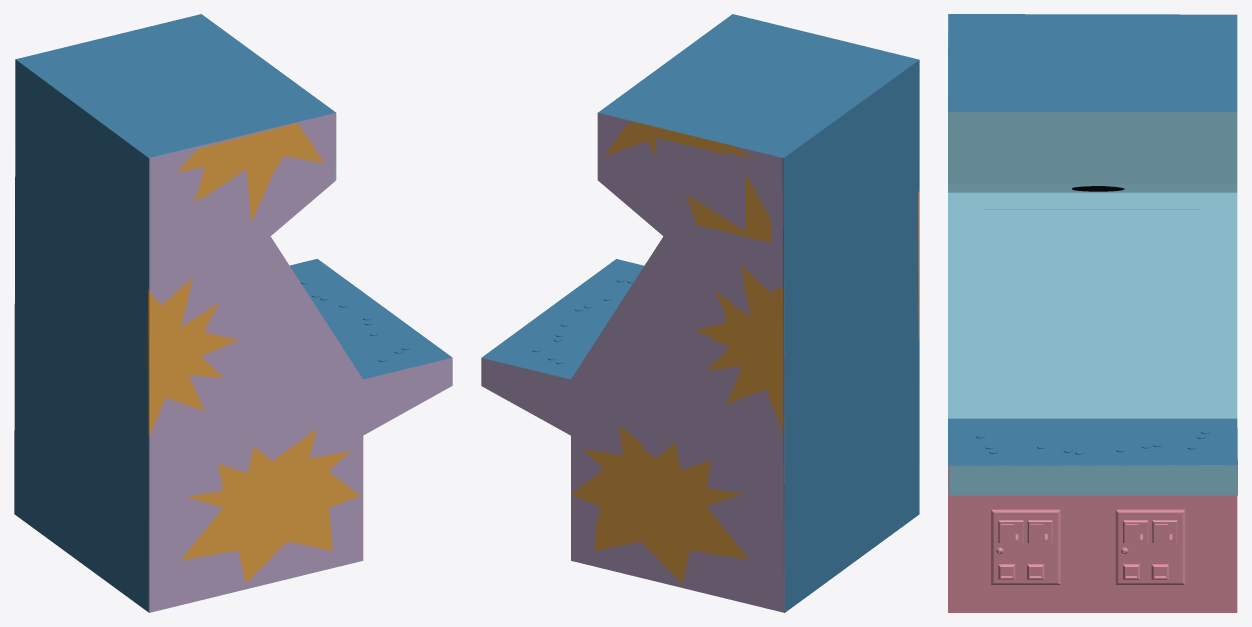
3 renders of one model, left to right at view 1: azimuth 30°, elevation 25°; view 2: azimuth 150°, elevation 25°; view 3: azimuth 270°, elevation 25°, orthographic. The views are drawn at different scales.
Parts seen in each view (by area): view 1: new1; view 2: new1; view 3: new1.
Part boxes in pixels (<box>): new1: <box>14,14,452,612</box>; new1: <box>481,14,919,612</box>; new1: <box>948,14,1237,612</box>.
Size of the model in its own units: 659 by 943 by 509.
Materials: 1 (1 with a texture image).
